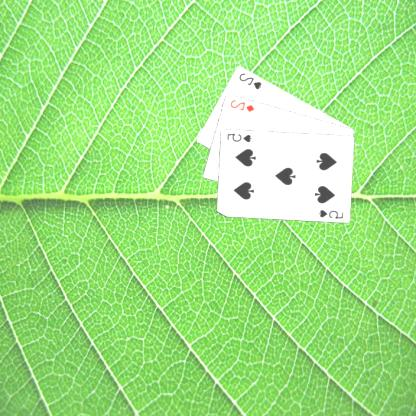2D: (229, 97, 258, 113)
2S: (238, 70, 265, 90)
5S: (317, 207, 346, 220), (225, 131, 254, 143)
